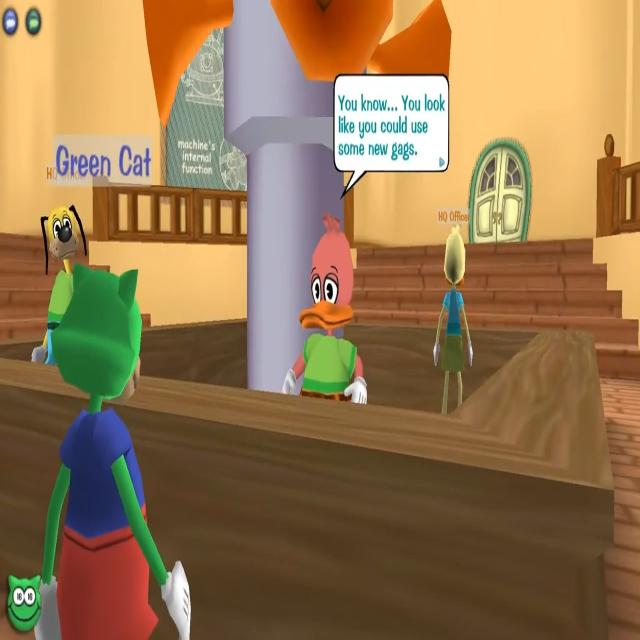npc: (284, 202, 373, 422), (28, 155, 106, 382), (431, 199, 476, 419)
